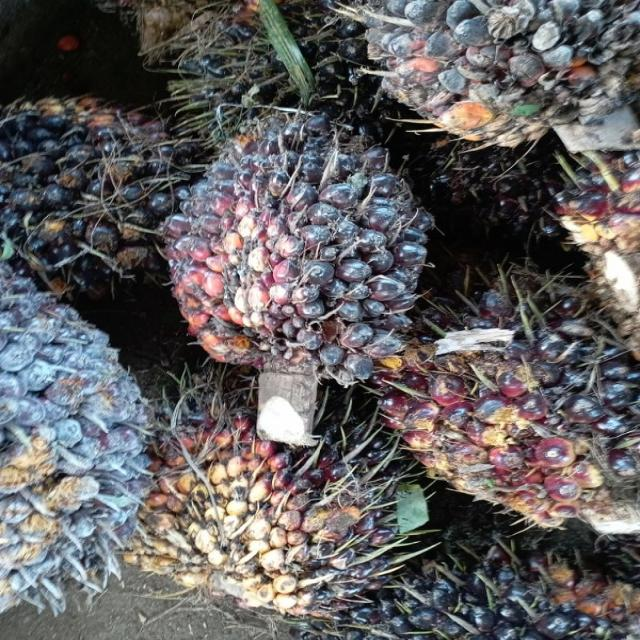fraksi 1: (145, 74, 433, 438)
